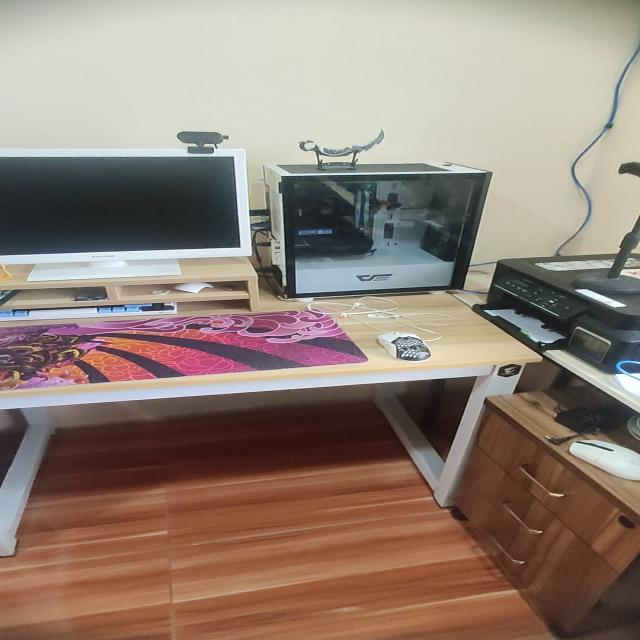table: (0, 284, 550, 562)
